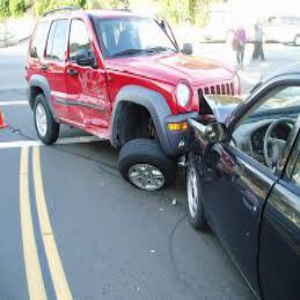door: (57, 66, 112, 133)
